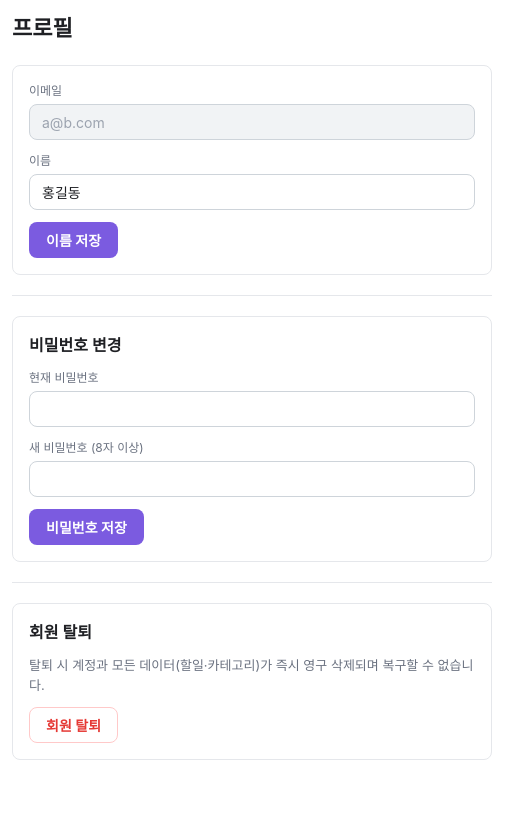
Scenario: ProfilePage › 비번 변경 401 → ErrorMessage
Check: the field labelled "이름" is shown, box [29,174,475,210]
Type "wrong___" into the password field labelled "현재 비밀번호" at (252, 409), box [29,391,475,427]
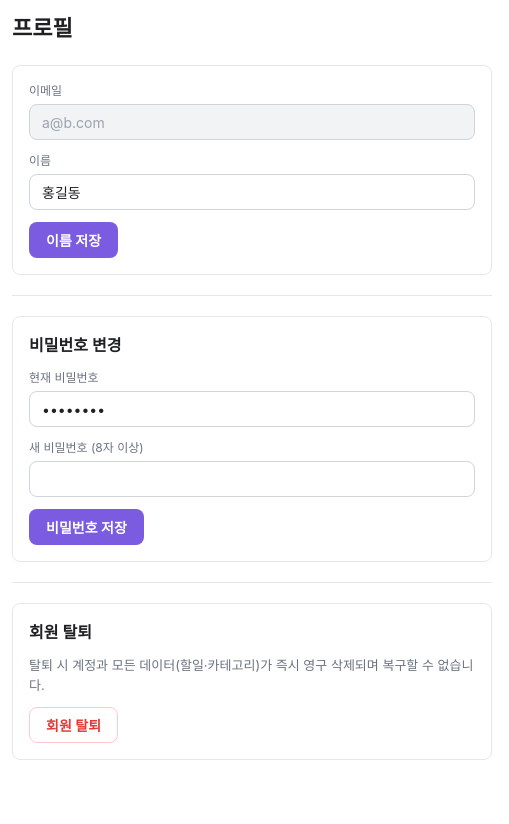
Type "NewPw1234" into the password field labelled "새 비밀번호 (8자 이상)" at (252, 479), box [29,461,475,497]
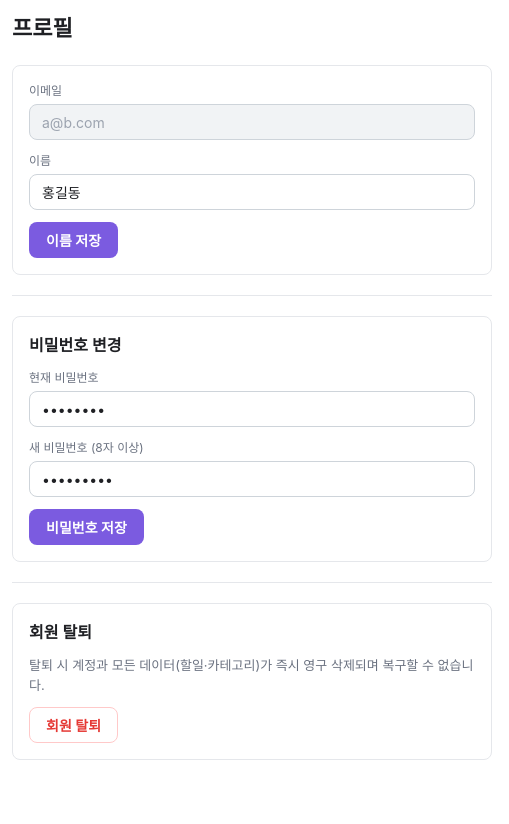
Click the button "비밀번호 저장" at (86, 527), box [29,509,144,545]
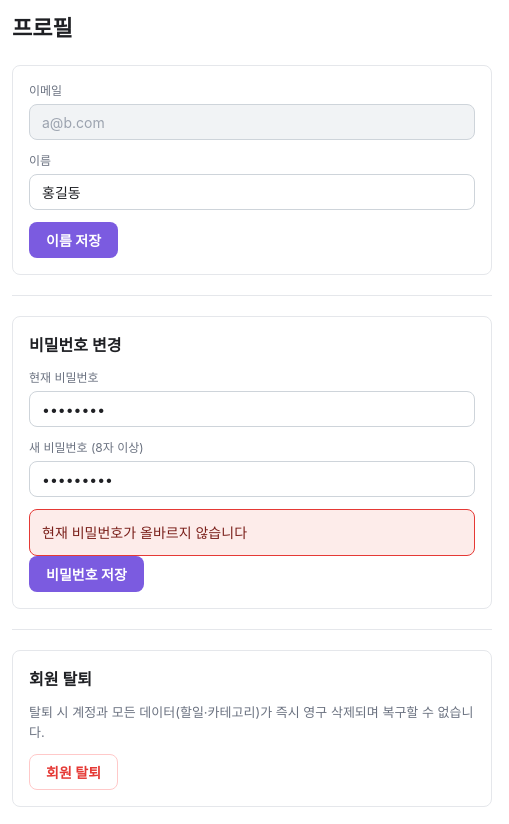
Check: the text "현재 비밀번호가 올바르지 않습니다" is shown, box [29,509,475,556]
